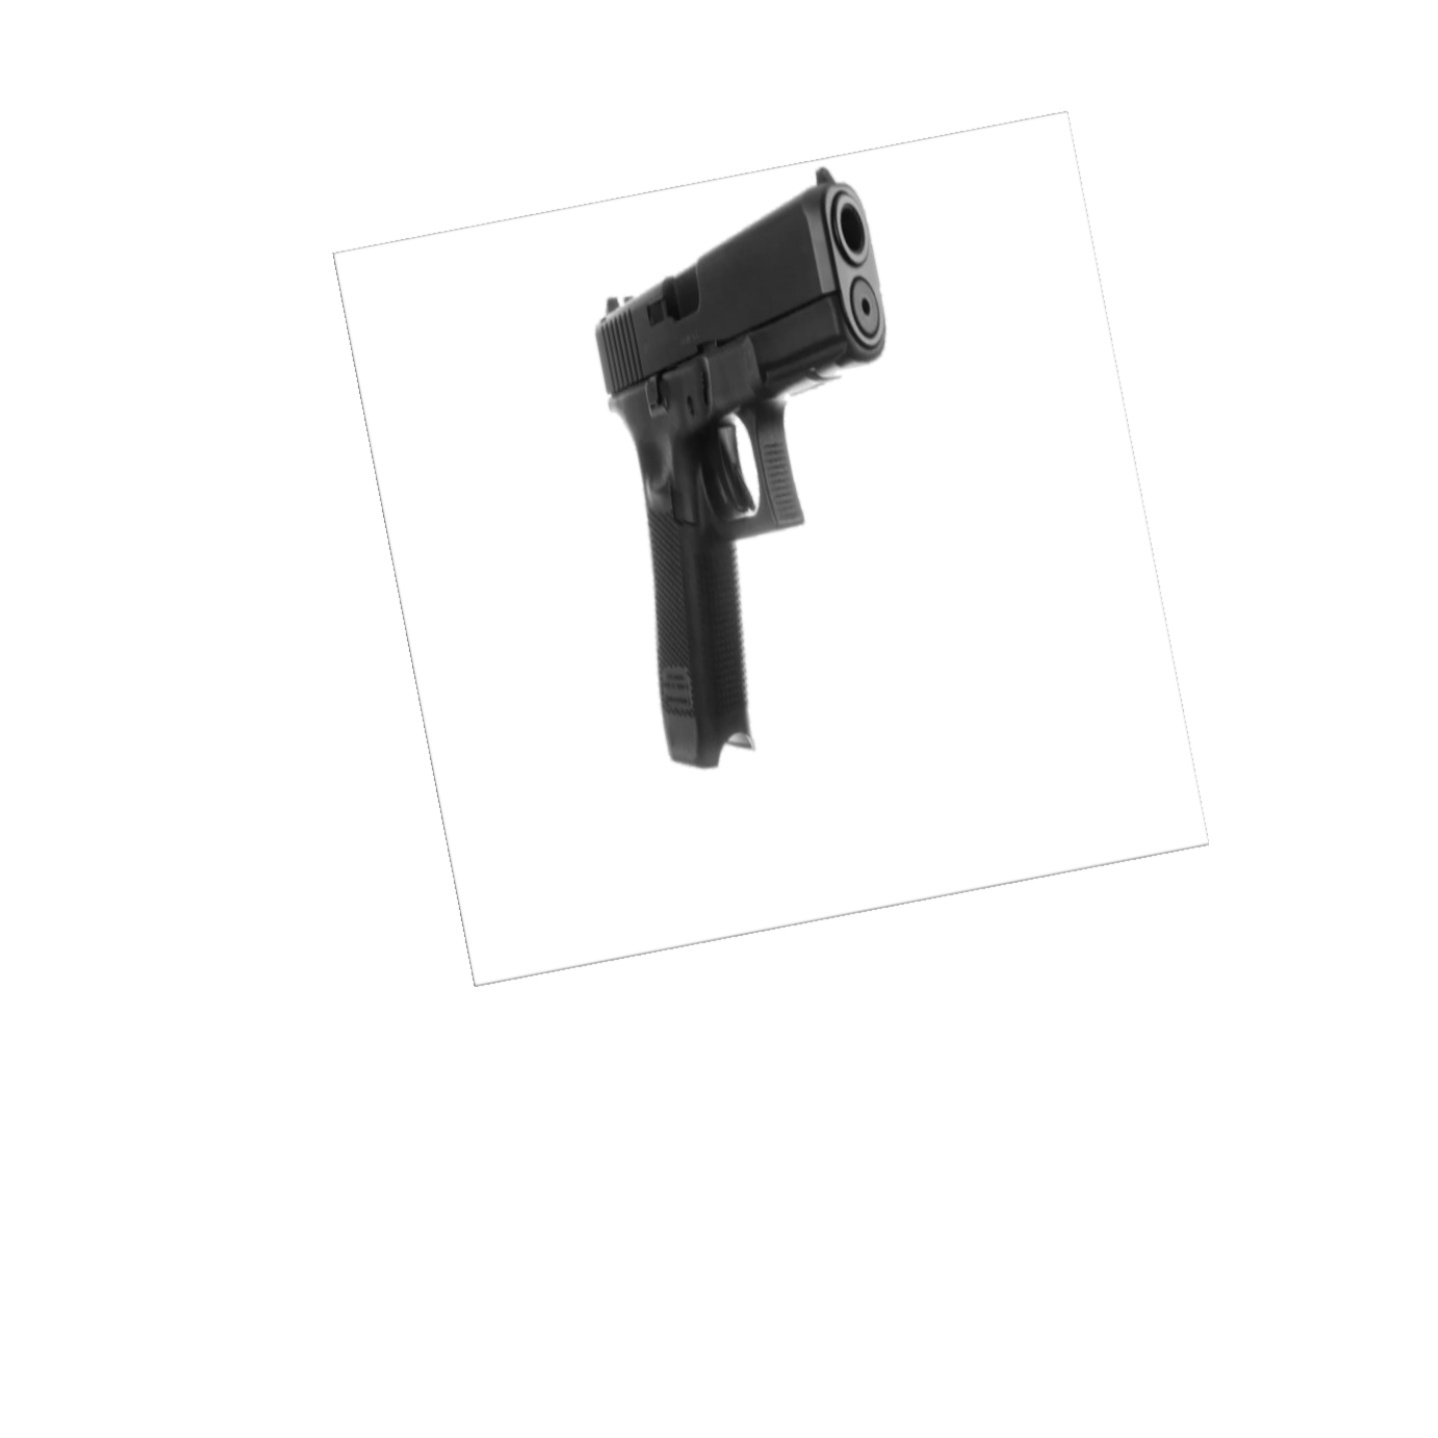gun: (589, 166, 909, 782)
